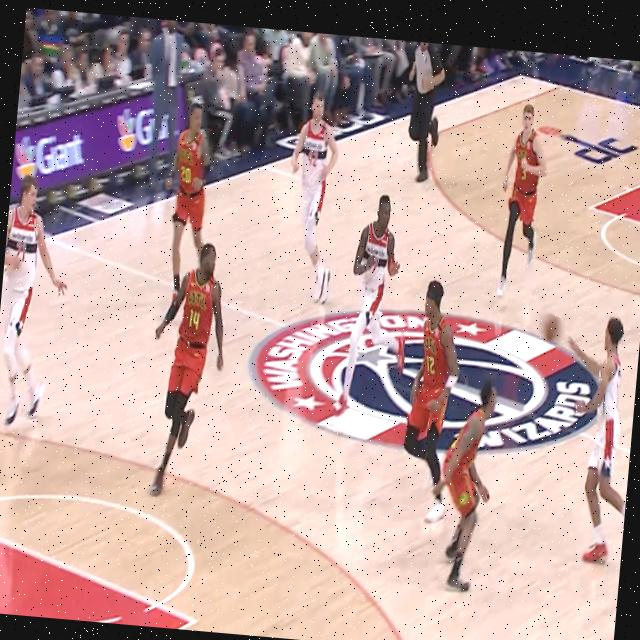no foul: (381, 265, 534, 596)
